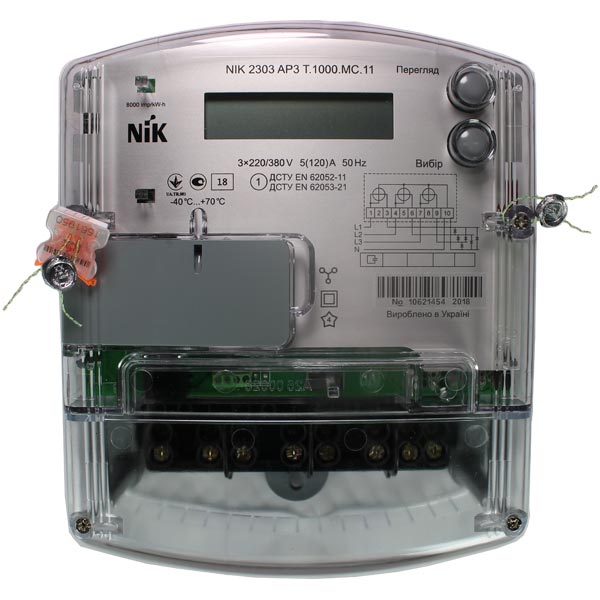counter: (47, 17, 542, 579)
counter_screen: (200, 90, 398, 143)
